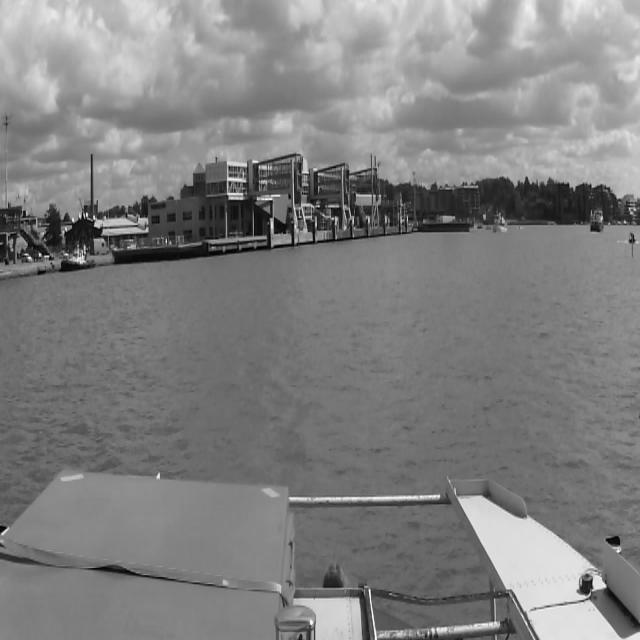buoy: (631, 242, 633, 257)
ship: (60, 244, 96, 272), (590, 208, 604, 232), (493, 210, 507, 233), (629, 232, 635, 244)
